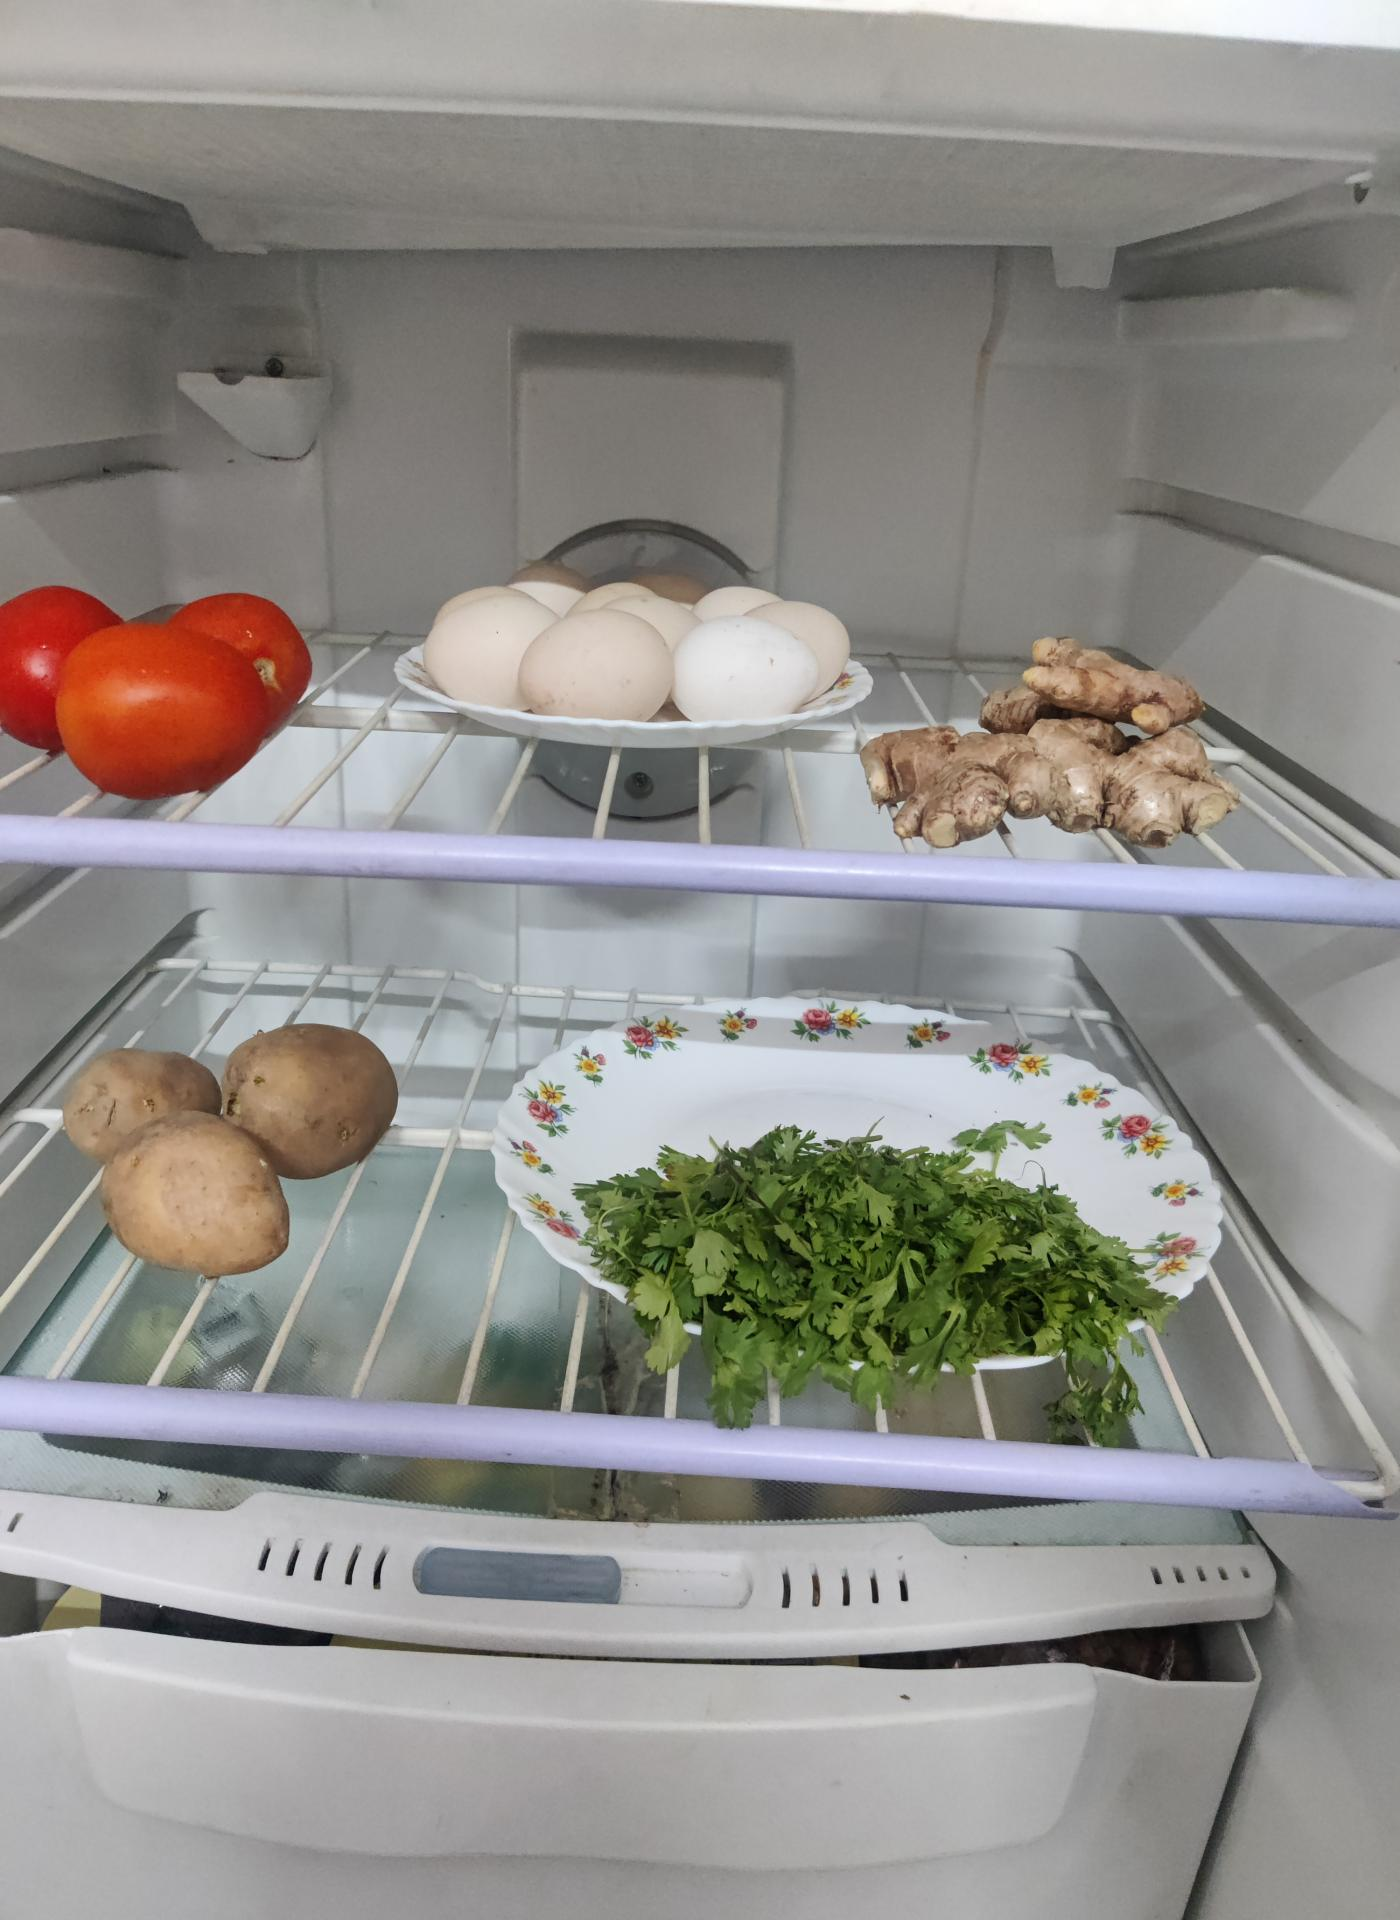coriander: (567, 1125, 1179, 1412)
egg: (419, 534, 860, 784)
ginger: (878, 635, 1245, 860)
potato: (66, 1014, 404, 1270)
tomato: (3, 577, 319, 793)
